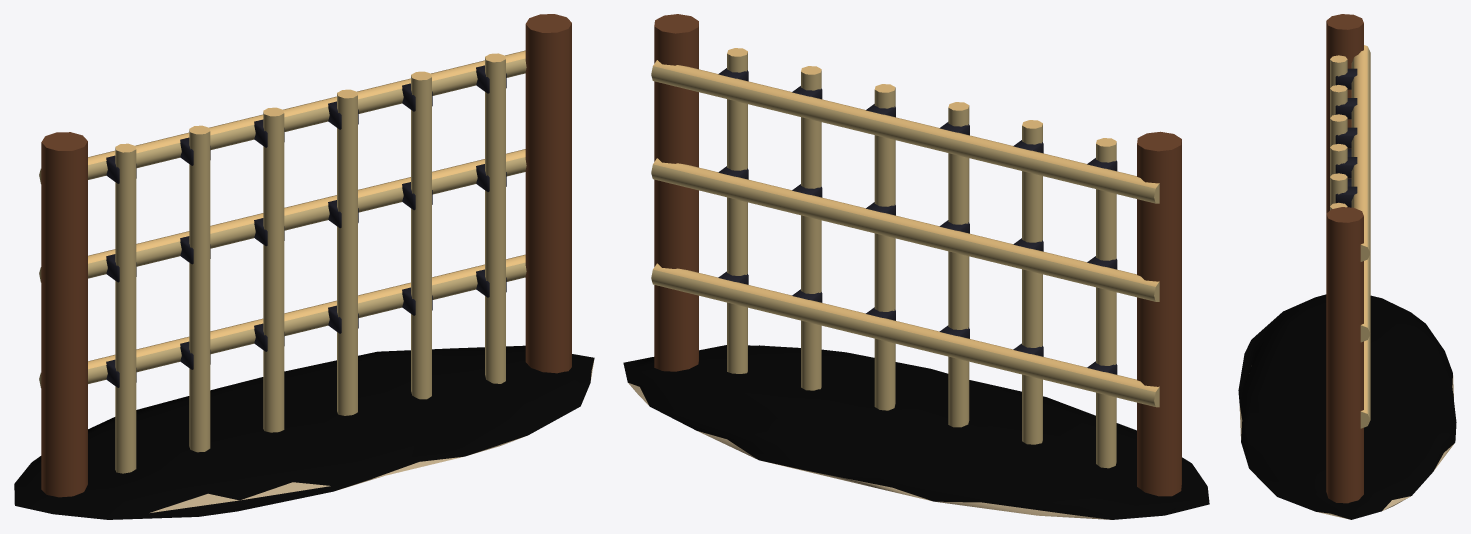
Rendered from BambooFence.fbx.
The picture shows the model from 3 angles, left to right: view 1: azimuth 30°, elevation 25°; view 2: azimuth 150°, elevation 25°; view 3: azimuth 270°, elevation 25°; orthographic projection. The views are drawn at different scales.
Parts seen in each view (by area): view 1: BambooFence; view 2: BambooFence; view 3: BambooFence.
Boxes of the visible parts, left/top/right/bottom form: BambooFence: left=14, top=14, right=594, bottom=519; BambooFence: left=623, top=14, right=1209, bottom=519; BambooFence: left=1238, top=14, right=1456, bottom=519.
Size of the model in its own units: 1.74 by 1 by 0.6877.
Materials: 1 (1 with a texture image).
